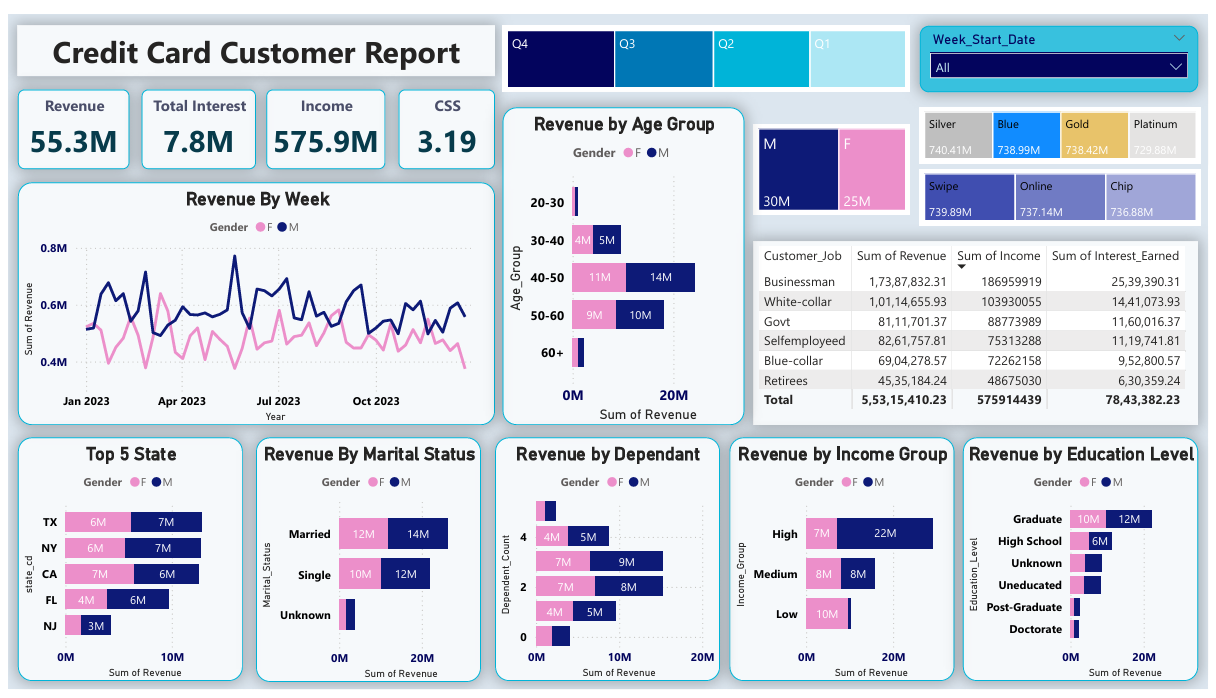

This screenshot's page, from the dashboard's own definition file:
{"tool":"powerbi","page":{"name":"Credit Card Customer Report","canvas":[1280,720],"ordinal":2},"visuals":[{"type":"textbox","box":[9.7,12.1,509.1,54.3],"z":0},{"type":"tableEx","fields":{"Values":["customer.Customer_Job","Sum(credit_card.Revenue)","Sum(customer.Income)","Sum(credit_card.Interest_Earned)"]},"box":[795,242.5,474.1,195.4],"z":1000},{"type":"card","title":"Revenue","fields":{"Values":["Sum(credit_card.Revenue)"]},"box":[9.7,79.6,119.4,85.7],"z":2000},{"type":"card","title":"Total Interest","fields":{"Values":["Sum(credit_card.Interest_Earned)"]},"box":[142.4,79.6,121.9,85.7],"z":3000},{"type":"card","title":"Income","fields":{"Values":["Sum(customer.Income)"]},"box":[275.1,79.6,126.7,85.7],"z":4000},{"type":"card","title":"CSS","fields":{"Values":["Avg(customer.Cust_Satisfaction_Score)"]},"box":[416.2,79.6,102.5,85.7],"z":5000},{"type":"slicer","fields":{"Values":["credit_card.Week_Start_Date"]},"box":[972.4,12.1,296.8,71.2],"z":6000},{"type":"treemap","fields":{"Values":["Avg(credit_card.Client_Num)"],"Group":["credit_card.Qtr"]},"box":[527.2,12.1,434.3,71.2],"z":7000},{"type":"treemap","fields":{"Values":["Avg(credit_card.Client_Num)"],"Group":["credit_card.Card_Category"]},"box":[972.4,98.9,300,60],"z":8000},{"type":"lineChart","title":"Revenue By Week","fields":{"Y":["Sum(credit_card.Revenue)"],"Series":["customer.Gender"],"Category":["credit_card.Week_Start_Date.Variation.Date Hierarchy.Year","credit_card.Week_Start_Date.Variation.Date Hierarchy.Month","credit_card.Week_Start_Date.Variation.Date Hierarchy.Day"]},"box":[9.7,178.6,509.1,259.4],"z":9000},{"type":"treemap","fields":{"Group":["customer.Gender"],"Values":["Sum(credit_card.Revenue)"]},"box":[795,117,166.5,96.5],"z":10000},{"type":"barChart","title":"Revenue by Income Group","fields":{"Category":["customer.Income_Group"],"Y":["Sum(credit_card.Revenue)"],"Series":["customer.Gender"]},"box":[768.5,451.2,240.1,260],"z":11000},{"type":"barChart","title":"Revenue by Age Group","fields":{"Category":["customer.Age_Group"],"Y":["Sum(credit_card.Revenue)"],"Series":["customer.Gender"]},"box":[527.2,98.9,258.2,339],"z":12000},{"type":"barChart","title":"Revenue by Dependant","fields":{"Category":["customer.Dependent_Count"],"Y":["Sum(credit_card.Revenue)"],"Series":["customer.Gender"]},"box":[518.8,451.2,240.1,260],"z":13000},{"type":"barChart","title":"Revenue by Education Level","fields":{"Category":["customer.Education_Level"],"Y":["Sum(credit_card.Revenue)"],"Series":["customer.Gender"]},"box":[1018.2,451.2,250.9,260],"z":14000},{"type":"barChart","title":"Top 5 State","fields":{"Category":["customer.state_cd"],"Y":["Sum(credit_card.Revenue)"],"Series":["customer.Gender"]},"box":[9.7,451.2,240,260],"z":15000},{"type":"barChart","title":"Revenue By Marital Status","fields":{"Category":["customer.Marital_Status"],"Y":["Sum(credit_card.Revenue)"],"Series":["customer.Gender"]},"box":[264.2,451.2,240.1,260.6],"z":16000},{"type":"treemap","fields":{"Values":["Avg(credit_card.Client_Num)"],"Group":["credit_card.Use Chip"]},"box":[972.4,165.3,300,60],"z":17000}]}

Visuals, with their boxes in screenshot pixels (x1, y1, x2, y2), scaled from the page's 1280x720 canvas onto the 1216x698 screenshot:
textbox: [9,12,493,64]
tableEx - customer.Customer_Job x Sum(credit_card.Revenue): [755,235,1206,425]
"Revenue" card: [9,77,123,160]
"Total Interest" card: [135,77,251,160]
"Income" card: [261,77,382,160]
"CSS" card: [395,77,493,160]
slicer - credit_card.Week_Start_Date: [924,12,1206,81]
treemap - Avg(credit_card.Client_Num) x credit_card.Qtr: [501,12,913,81]
treemap - Avg(credit_card.Client_Num) x credit_card.Card_Category: [924,96,1209,154]
"Revenue By Week" lineChart: [9,173,493,425]
treemap - customer.Gender x Sum(credit_card.Revenue): [755,113,913,207]
"Revenue by Income Group" barChart: [730,437,958,689]
"Revenue by Age Group" barChart: [501,96,746,425]
"Revenue by Dependant" barChart: [493,437,721,689]
"Revenue by Education Level" barChart: [967,437,1206,689]
"Top 5 State" barChart: [9,437,237,689]
"Revenue By Marital Status" barChart: [251,437,479,690]
treemap - Avg(credit_card.Client_Num) x credit_card.Use Chip: [924,160,1209,218]
